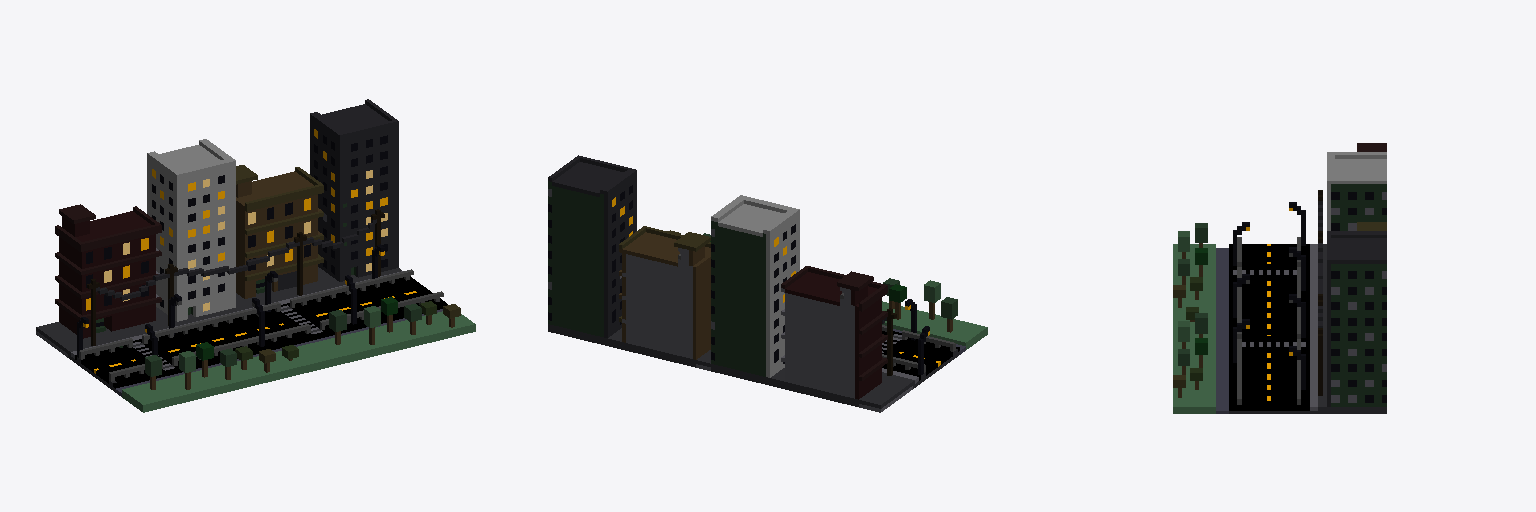
3 renders of one model, left to right at view 1: azimuth 30°, elevation 25°; view 2: azimuth 150°, elevation 25°; view 3: azimuth 270°, elevation 25°, orthographic.
Visible parts, largest first — view 1: object 1; view 2: object 1; view 3: object 1.
Boxes of the visible parts, x1=… form: object 1: x1=36, y1=99, x2=475, y2=412; object 1: x1=548, y1=155, x2=987, y2=412; object 1: x1=1173, y1=143, x2=1386, y2=413.
Bounding box in the file's own units: 9 × 4 × 5.
1 materials, 1 textured.